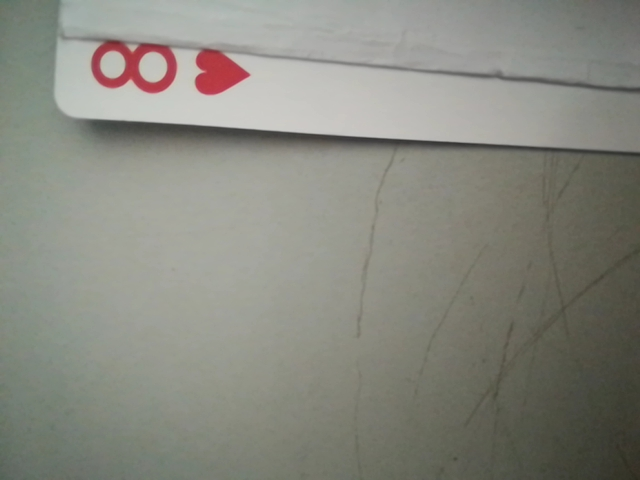hx 8: (75, 34, 243, 106)
